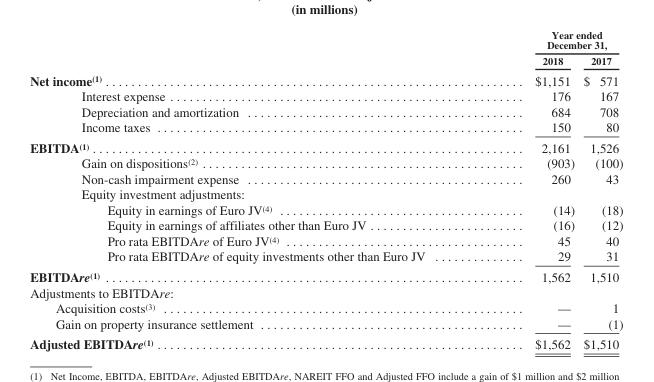table: (29, 28, 622, 351)
table column: (29, 28, 479, 351), (479, 28, 578, 351), (578, 28, 622, 351)
table column header: (29, 28, 622, 69)
table projected row header: (29, 186, 622, 201), (29, 284, 622, 299)
table row: (29, 28, 622, 52), (29, 136, 622, 155), (29, 69, 622, 87), (29, 118, 622, 136), (29, 248, 622, 266), (29, 266, 622, 284), (29, 315, 622, 333), (29, 333, 622, 351), (29, 52, 622, 69), (29, 87, 622, 103), (29, 170, 622, 186), (29, 201, 622, 217), (29, 232, 622, 248), (29, 299, 622, 315), (29, 103, 622, 118), (29, 155, 622, 170), (29, 186, 622, 201), (29, 217, 622, 232), (29, 284, 622, 299)
table spanning cell: (479, 28, 622, 52)
